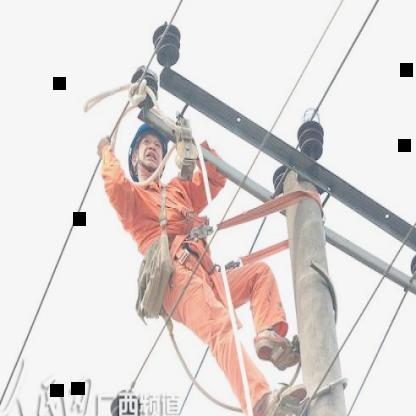helmet: (122, 107, 172, 193)
